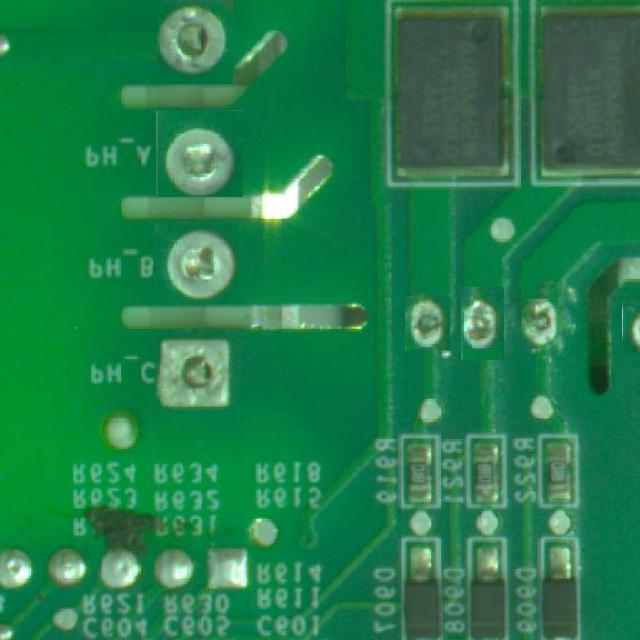lack_of_part: (150, 333, 241, 420), (156, 110, 243, 197), (153, 222, 240, 304), (158, 0, 233, 84), (460, 286, 504, 361), (406, 296, 452, 351), (516, 292, 562, 347), (622, 298, 640, 354)
